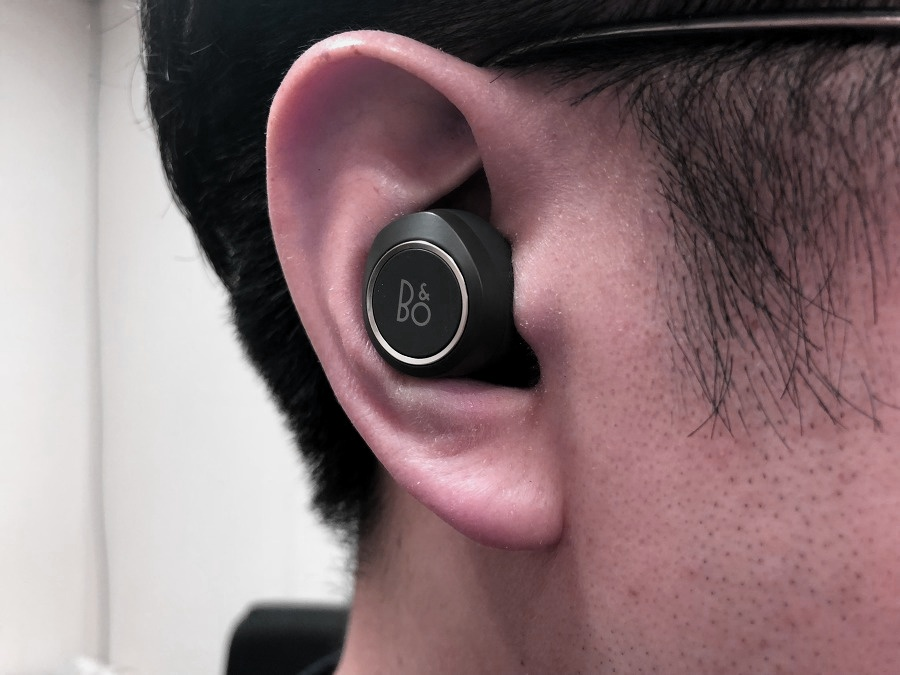earphone: (265, 31, 587, 553)
